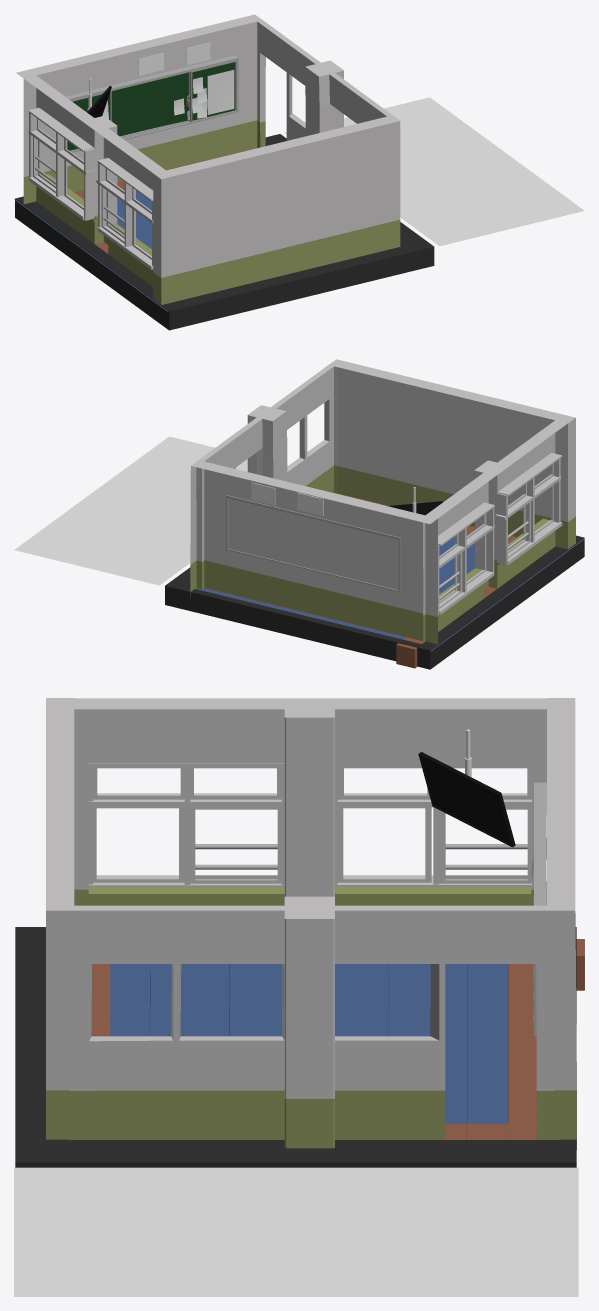
Rendered from class_1.fbx.
3 views of the same model, one above another, from view 1: azimuth 30°, elevation 25°; view 2: azimuth 150°, elevation 25°; view 3: azimuth 270°, elevation 25° (orthographic). The views are drawn at different scales.
Visible parts, largest first — view 1: Plane.013, Plane.003, Cube.006, Plane.015, Plane.012, Cube.007, Plane.016, Plane.019, Plane.020; view 2: Plane.013, Plane.003, Cube.006, Plane.015, Plane.019, Cube.007, Plane.001, Plane.023, Plane.020, Plane.017; view 3: Plane.013, Plane.003, Cube.006, Plane.015, Plane.019, Plane.009, Plane.011, Plane.008, Plane.010, Plane.022, Plane.025, Cube.007 (+2 smaller).
Part boxes in pixels (x1,y1,x2,y2): Plane.013: (16, 14, 400, 304); Plane.003: (284, 97, 584, 246); Cube.006: (15, 134, 434, 330); Plane.015: (28, 107, 153, 269); Plane.012: (111, 72, 188, 136); Cube.007: (65, 55, 238, 152); Plane.016: (102, 44, 234, 118); Plane.019: (33, 118, 151, 259); Plane.020: (138, 52, 163, 75); Plane.013: (190, 359, 575, 644); Plane.003: (14, 436, 288, 585); Cube.006: (165, 535, 584, 669); Plane.015: (438, 453, 562, 615); Plane.019: (439, 463, 553, 608); Cube.007: (226, 495, 400, 592); Plane.001: (196, 539, 584, 651); Plane.023: (396, 586, 496, 668); Plane.020: (297, 492, 323, 515); Plane.017: (251, 482, 275, 505); Plane.013: (46, 698, 576, 1149); Plane.003: (14, 1167, 578, 1296); Cube.006: (15, 927, 576, 1167); Plane.015: (88, 763, 536, 889); Plane.019: (93, 765, 531, 883); Plane.009: (149, 964, 508, 1107); Plane.011: (150, 973, 507, 1139); Plane.008: (110, 964, 467, 1106); Plane.010: (110, 973, 467, 1139); Plane.022: (508, 964, 536, 1139); Plane.025: (418, 752, 515, 847); Cube.007: (534, 782, 546, 1036).
Bounding box in the file's own units: 3358 × 1155 × 2191.
